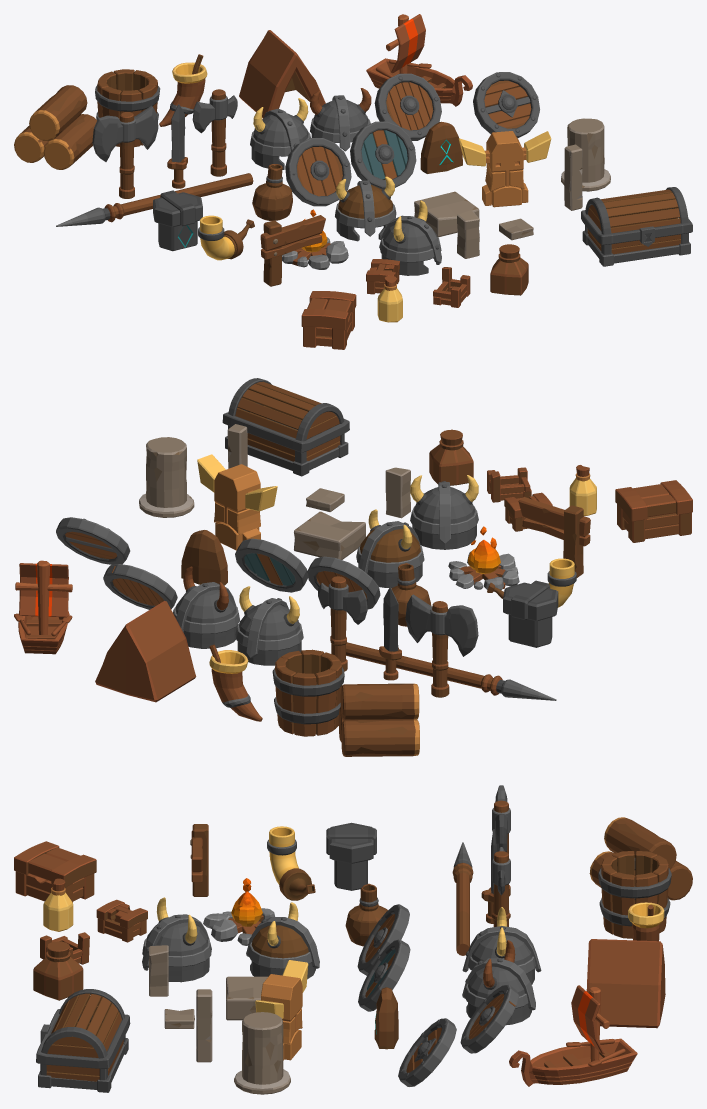
Rendered from Vikings_Assets.fbx.
3 renders of one model, top to bottom at view 1: azimuth 30°, elevation 25°; view 2: azimuth 150°, elevation 25°; view 3: azimuth 270°, elevation 25°, orthographic. The views are drawn at different scales.
Parts seen in each view (by area): view 1: Cube.220, Cube.225, Cube.221, Cube.226, Cylinder.107, Cylinder.146, Cylinder.085, Cylinder.100, Cylinder.101, Cube.202, Cylinder.080, Cylinder.121 (+39 smaller); view 2: Cube.220, Cube.225, Cylinder.085, Cylinder.107, Cube.221, Cylinder.102, Cylinder.100, Cube.226, Cylinder.146, Cube.238, Cylinder.126, Cube.202 (+47 smaller); view 3: Cube.220, Cube.225, Cylinder.107, Cube.173, Cylinder.085, Cube.226, Cube.221, Cylinder.145, Cylinder.100, Cube.130, Cylinder.073, Cylinder.088 (+35 smaller).
Part boxes in pixels (box(x1,y1,x2,y2)): Cube.220: box(239, 30, 325, 118); Cube.225: box(587, 189, 680, 254); Cube.221: box(153, 190, 202, 251); Cube.226: box(581, 187, 692, 254); Cylinder.107: box(561, 118, 610, 191); Cylinder.146: box(56, 173, 253, 226); Cylinder.085: box(97, 69, 157, 147); Cylinder.100: box(29, 85, 87, 140); Cylinder.101: box(43, 114, 96, 169); Cube.202: box(420, 121, 462, 173); Cylinder.080: box(285, 138, 351, 206); Cylinder.121: box(350, 121, 416, 189); Cube.220: box(95, 601, 196, 702); Cube.225: box(235, 381, 340, 461); Cylinder.085: box(275, 649, 342, 736); Cylinder.107: box(139, 437, 194, 517); Cube.221: box(503, 580, 558, 647); Cylinder.102: box(341, 719, 419, 756); Cylinder.100: box(340, 683, 419, 720); Cube.226: box(222, 378, 349, 463); Cylinder.146: box(346, 642, 556, 700); Cube.238: box(294, 511, 365, 559); Cylinder.126: box(209, 650, 262, 721); Cube.202: box(181, 530, 227, 585); Cube.220: box(586, 939, 665, 1028); Cube.225: box(46, 993, 123, 1081); Cylinder.107: box(234, 1012, 290, 1094); Cube.173: box(509, 1038, 637, 1086); Cylinder.085: box(601, 851, 668, 938); Cube.226: box(36, 989, 130, 1080); Cube.221: box(326, 822, 376, 890); Cylinder.145: box(267, 826, 315, 900); Cylinder.100: box(604, 817, 676, 869); Cube.130: box(33, 957, 83, 1000); Cylinder.073: box(460, 984, 518, 1053); Cylinder.088: box(398, 1018, 456, 1086).
Bounding box in the file's own units: 1834 × 336 × 2057.
Materials: 2 (2 with a texture image).
